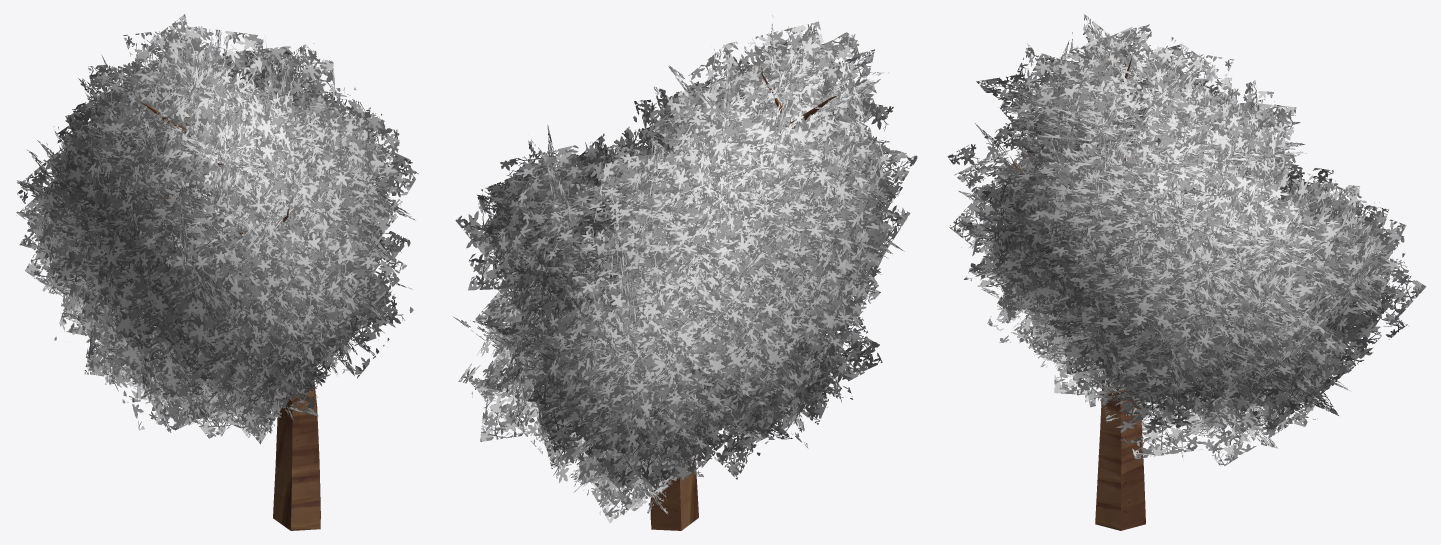
The model's file is M_Tree2_CO.fbx.
3 renders of one model, left to right at view 1: azimuth 30°, elevation 25°; view 2: azimuth 150°, elevation 25°; view 3: azimuth 270°, elevation 25°, orthographic. The views are drawn at different scales.
Visible parts, largest first — view 1: quick_basic_tree1; view 2: quick_basic_tree1; view 3: quick_basic_tree1.
Part boxes in pixels (x1,y1,x2,y2): quick_basic_tree1: [16, 14, 418, 530]; quick_basic_tree1: [453, 15, 917, 530]; quick_basic_tree1: [947, 14, 1426, 530].
Size of the model in its own units: 7.02 by 9.43 by 9.03.
